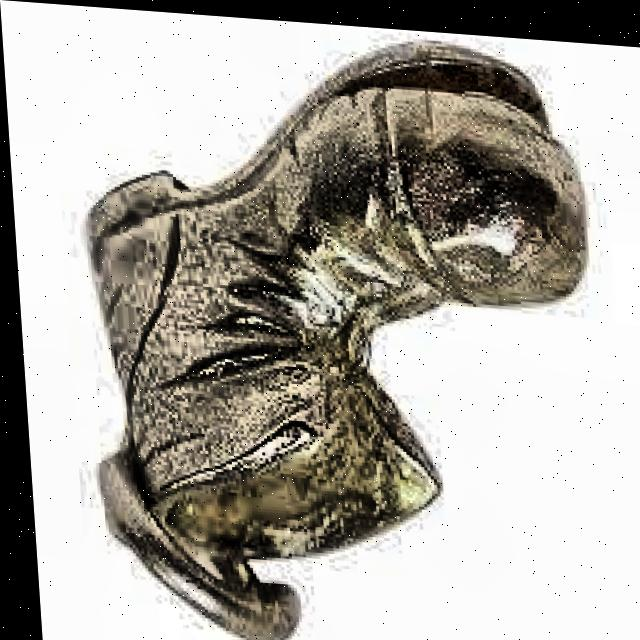shoes: (35, 19, 640, 640)
